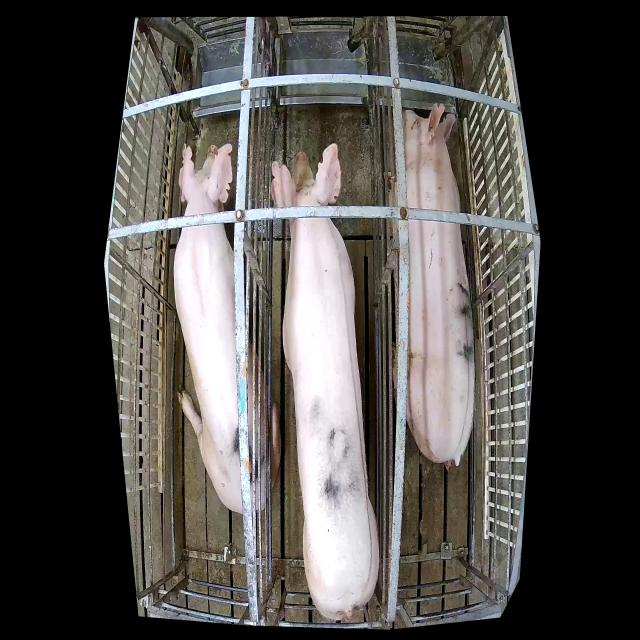pig: (270, 142, 379, 622), (174, 140, 281, 516), (402, 105, 475, 468)
